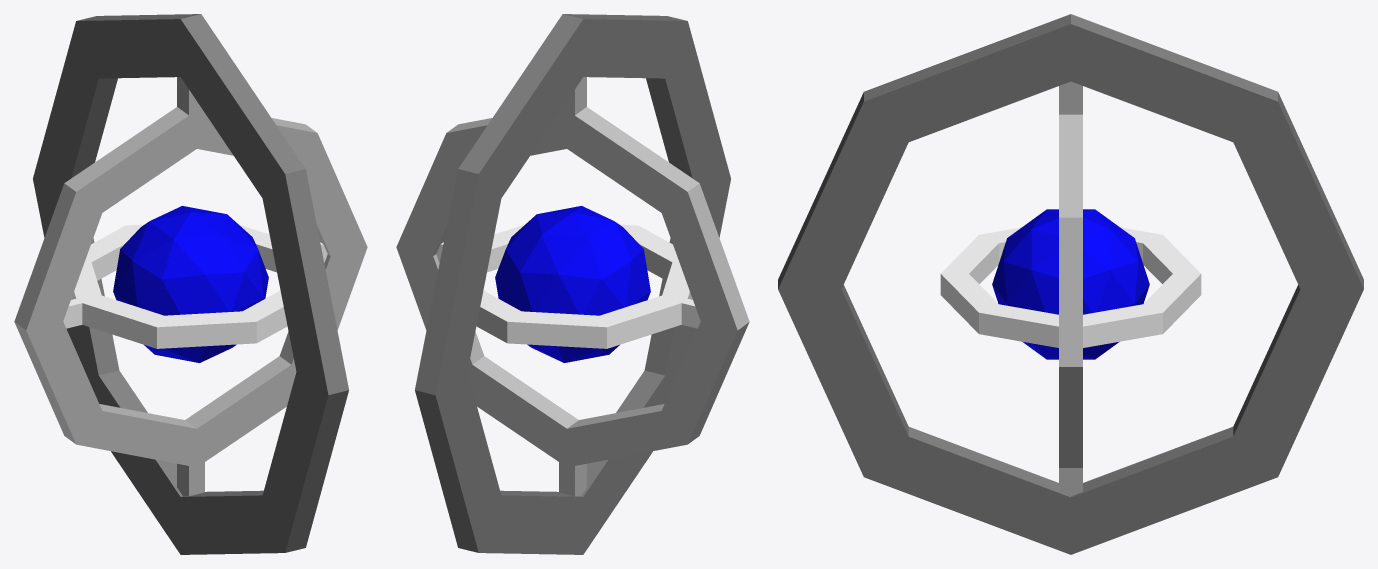
File: CD_Engine_v1.glb
The picture shows the model from 3 angles, left to right: view 1: azimuth 30°, elevation 25°; view 2: azimuth 150°, elevation 25°; view 3: azimuth 270°, elevation 25°; orthographic projection.
Visible parts, largest first — view 1: Outer, Middle, Core, Inner; view 2: Outer, Middle, Core, Inner; view 3: Outer, Inner, Core, Middle.
Part boxes in pixels (x1,y1,x2,y2): Outer: [33, 14, 348, 554]; Middle: [14, 77, 367, 496]; Core: [113, 206, 268, 362]; Inner: [63, 224, 327, 348]; Outer: [415, 14, 730, 554]; Middle: [396, 77, 749, 496]; Core: [495, 206, 650, 362]; Inner: [436, 224, 700, 348]; Outer: [778, 14, 1363, 554]; Inner: [940, 227, 1201, 347]; Core: [992, 209, 1149, 359]; Middle: [1059, 81, 1082, 495].
Bounding box in the file's own units: 9.9 × 14.85 × 14.85.
